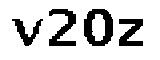0: (81, 7, 115, 48)
2: (44, 7, 79, 51)
v: (8, 17, 43, 49)
z: (116, 16, 147, 49)
